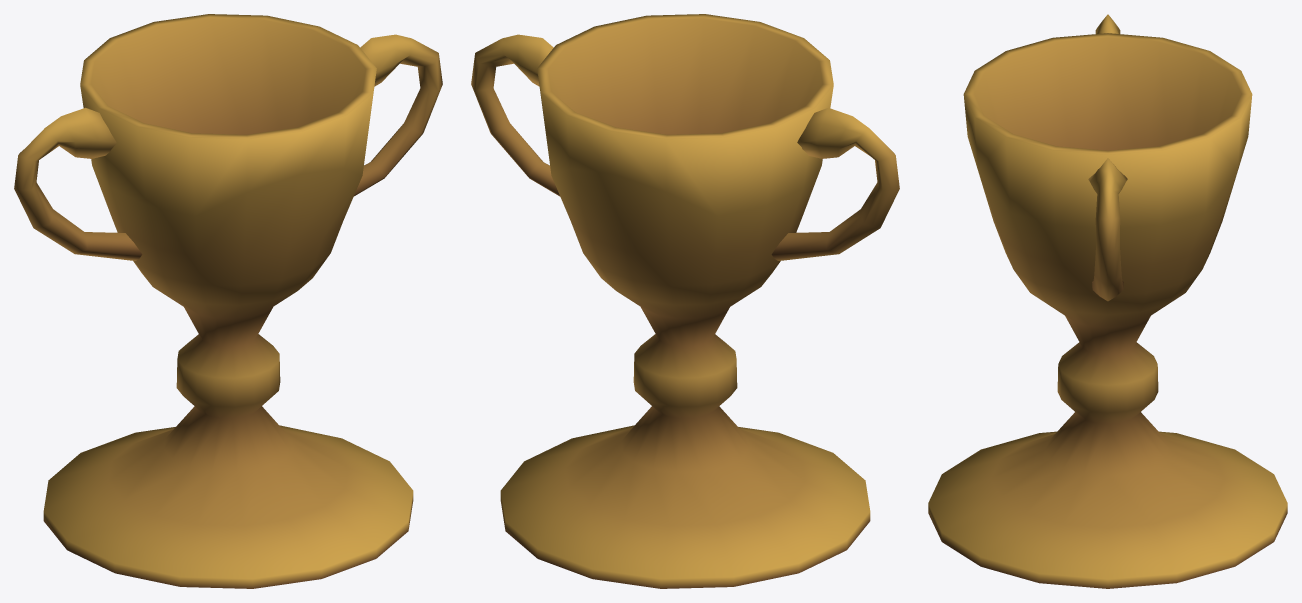
The picture shows the model from 3 angles, left to right: view 1: azimuth 30°, elevation 25°; view 2: azimuth 150°, elevation 25°; view 3: azimuth 270°, elevation 25°; orthographic projection. The views are drawn at different scales.
Parts seen in each view (by area): view 1: refl.002; view 2: refl.002; view 3: refl.002.
Part boxes in pixels (bbox=[...]): refl.002: bbox=[14, 14, 442, 588]; refl.002: bbox=[471, 14, 899, 588]; refl.002: bbox=[928, 14, 1287, 588].
Size of the model in its own units: 0.5 by 0.4881 by 0.3765.
